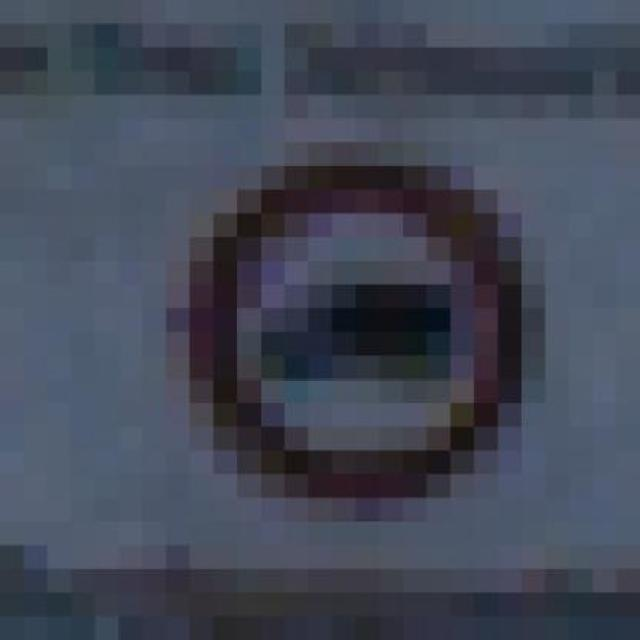Truck traffic is prohibited: (118, 142, 570, 522)
